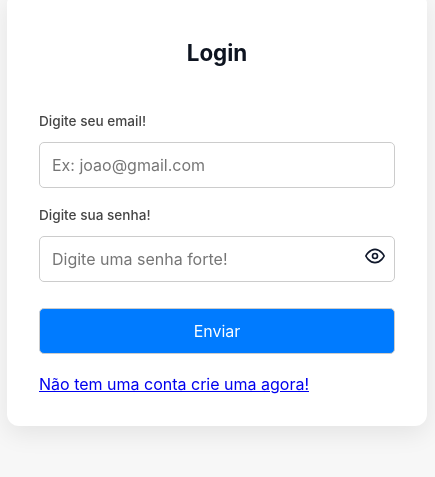
it: when the input are invalids › should display the error message when the email is invalid
Type "123456" into the password field with placeholder "Digite uma senha forte!".
click(217, 259); type("123456")  # box [39,236,395,282]
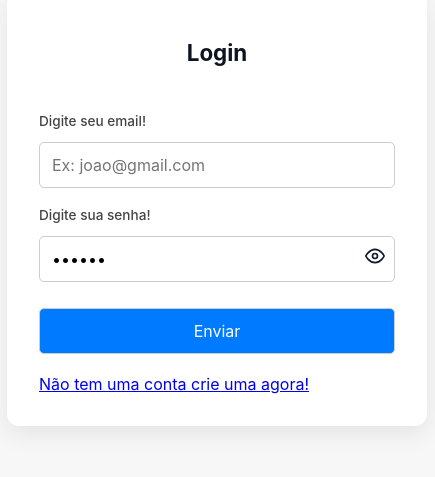
Click the button "Enviar".
click(217, 331)  # box [39,308,395,354]
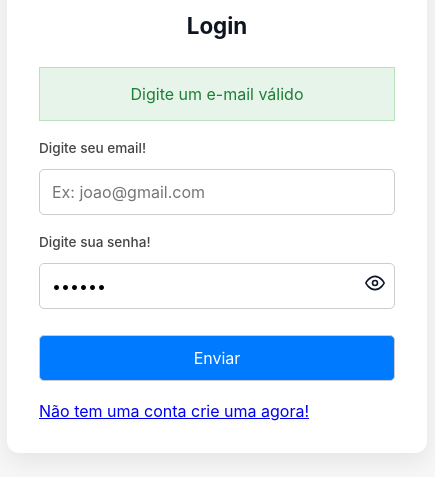
Expected: the text with test id "message_content" reads "Digite um e-mail válido", [130,84,304,104]
